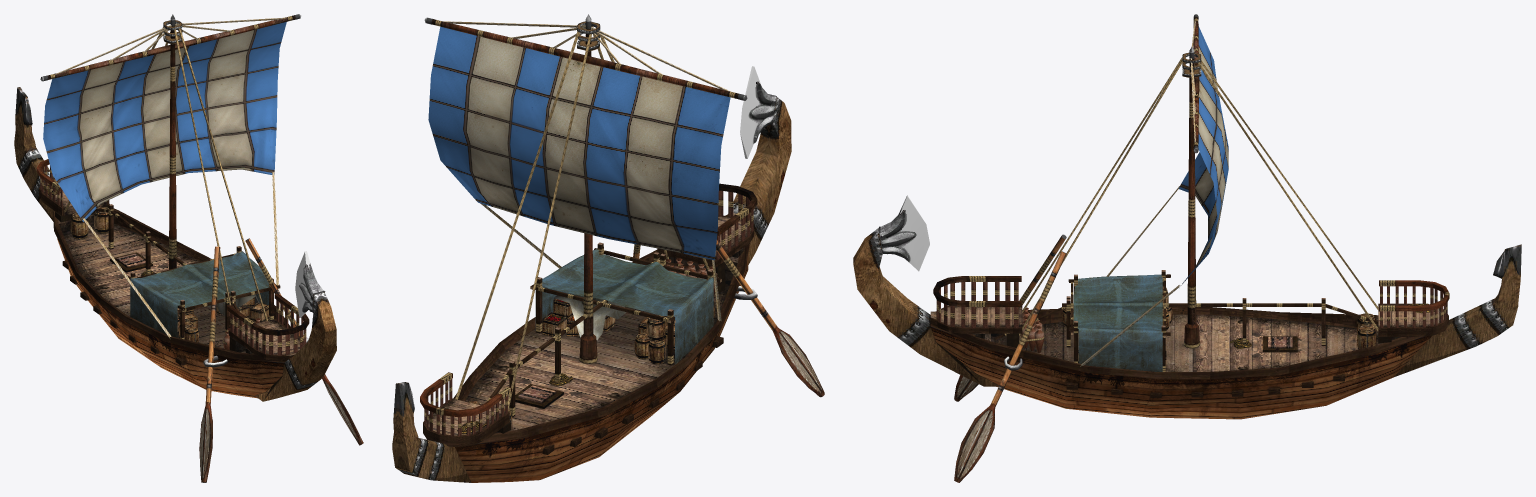
File: ptol_merchant_ship.glb
3 views of the same model, side by side, from view 1: azimuth 30°, elevation 25°; view 2: azimuth 150°, elevation 25°; view 3: azimuth 270°, elevation 25° (orthographic). The views are drawn at different scales.
Parts seen in each view (by area): view 1: ptol_merchant_ship_part0, ptol_merchant_ship_part1, ptol_merchant_ship_part2; view 2: ptol_merchant_ship_part0, ptol_merchant_ship_part1, ptol_merchant_ship_part2; view 3: ptol_merchant_ship_part0, ptol_merchant_ship_part2, ptol_merchant_ship_part1.
Boxes of the visible parts, x1,y1,x2,y2 form: ptol_merchant_ship_part0: [14, 14, 363, 482]; ptol_merchant_ship_part1: [43, 17, 287, 338]; ptol_merchant_ship_part2: [130, 251, 269, 337]; ptol_merchant_ship_part0: [392, 14, 824, 482]; ptol_merchant_ship_part1: [428, 21, 730, 321]; ptol_merchant_ship_part2: [535, 249, 713, 364]; ptol_merchant_ship_part0: [853, 14, 1521, 482]; ptol_merchant_ship_part2: [1073, 274, 1162, 371]; ptol_merchant_ship_part1: [1080, 21, 1228, 366].
Size of the model in its own units: 2.65 by 3.59 by 5.5.
Materials: 3 (3 with a texture image).
